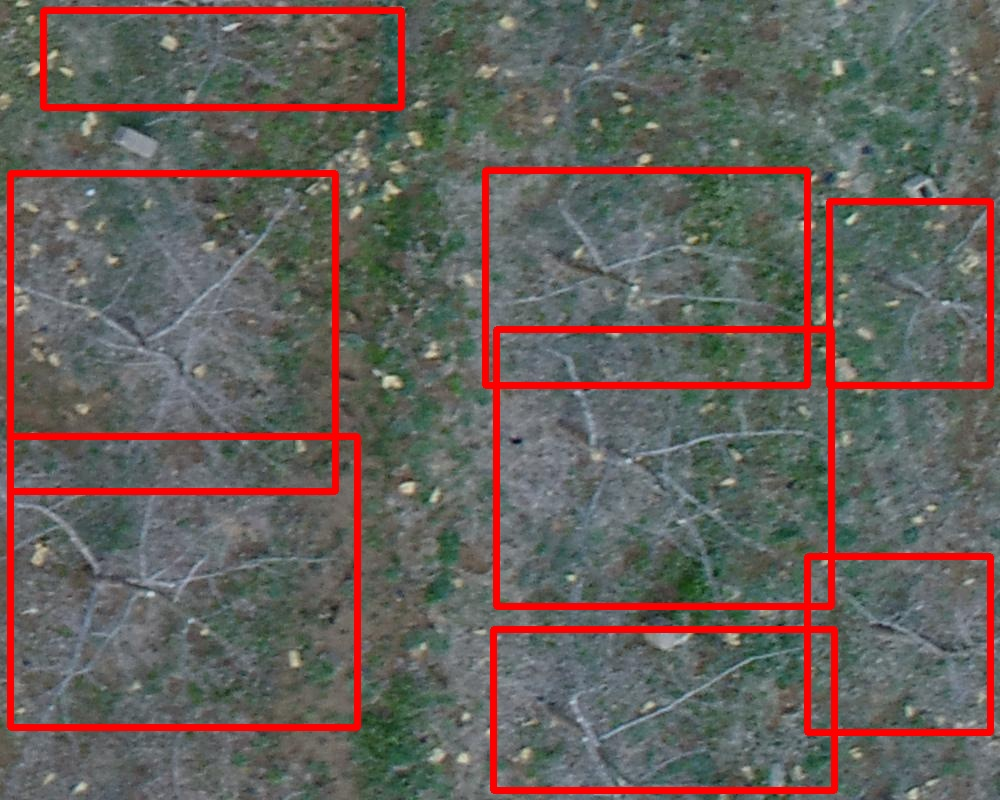apple: (10, 173, 335, 491), (10, 436, 357, 727), (496, 329, 831, 606), (485, 170, 807, 385), (493, 629, 834, 790), (43, 10, 401, 107), (807, 556, 990, 732), (829, 201, 990, 385)
